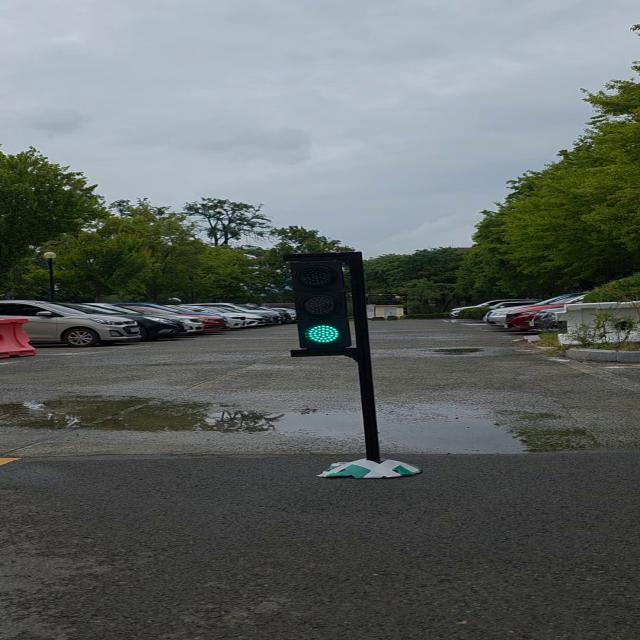green: (286, 252, 366, 355)
